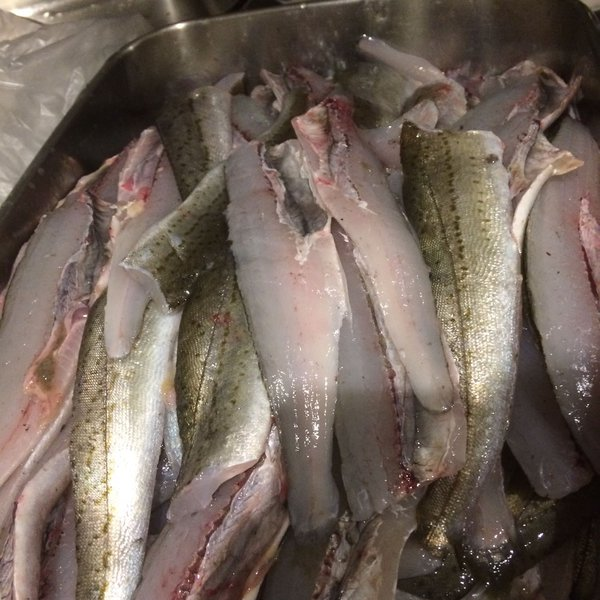kiss: (87, 126, 192, 600)
